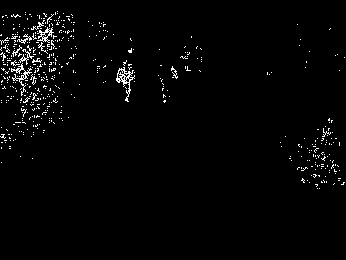person: (114, 60, 136, 102)
